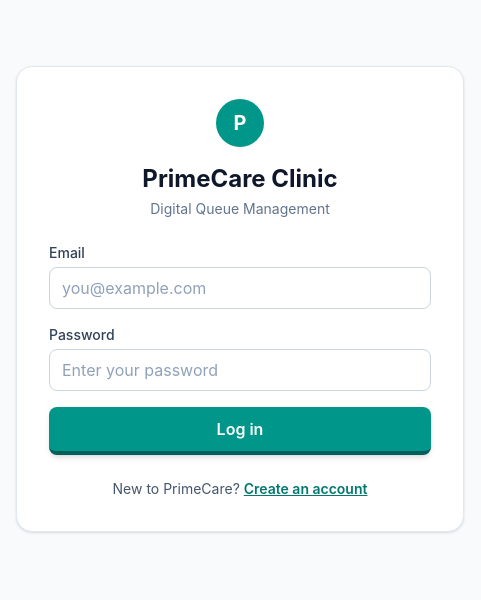
Test: Login › shows server field errors under the inputs
Type "patient@example.com" into the field labelled "Email" at (240,288), box [49,267,431,309]
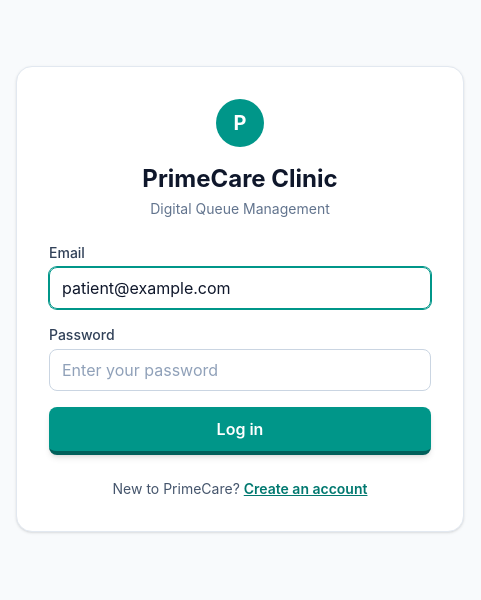
Type "x" into the password field labelled "Password" at (240,370), box [49,349,431,391]
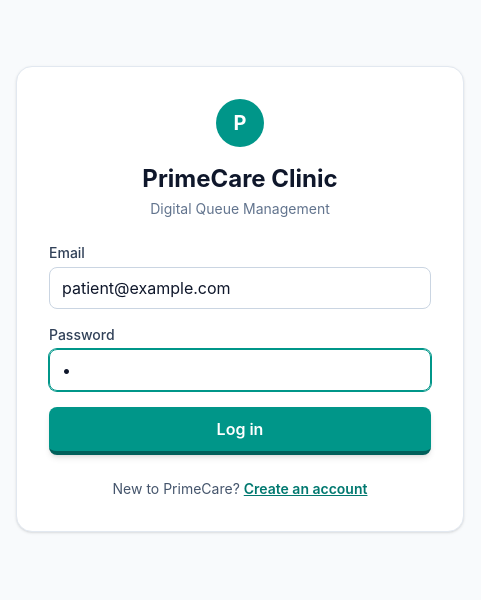
Click the button "Log in" at (240,431), box [49,407,431,455]
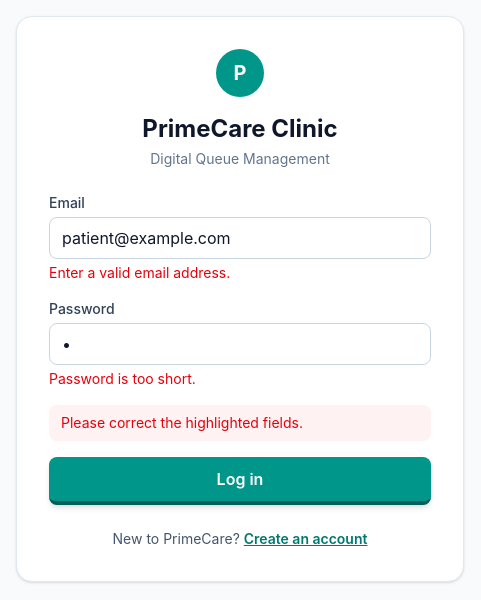
Expected: the text "Enter a valid email address." is shown, [49,264,230,281]
Expected: the text "Password is too short." is shown, [49,370,196,387]
Expected: the message reads "Please correct the highlighted fields.", [61,414,303,431]
